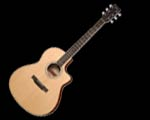guitar: (9, 4, 122, 117)
